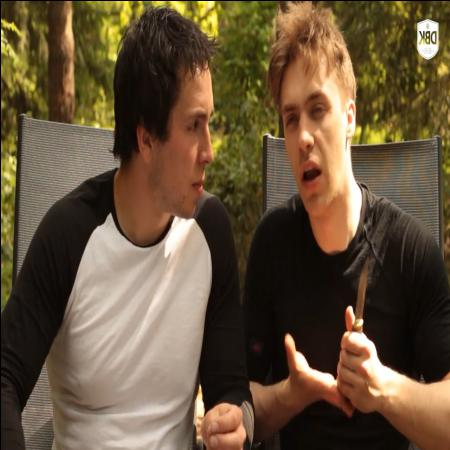long weapon: (333, 250, 376, 372)
